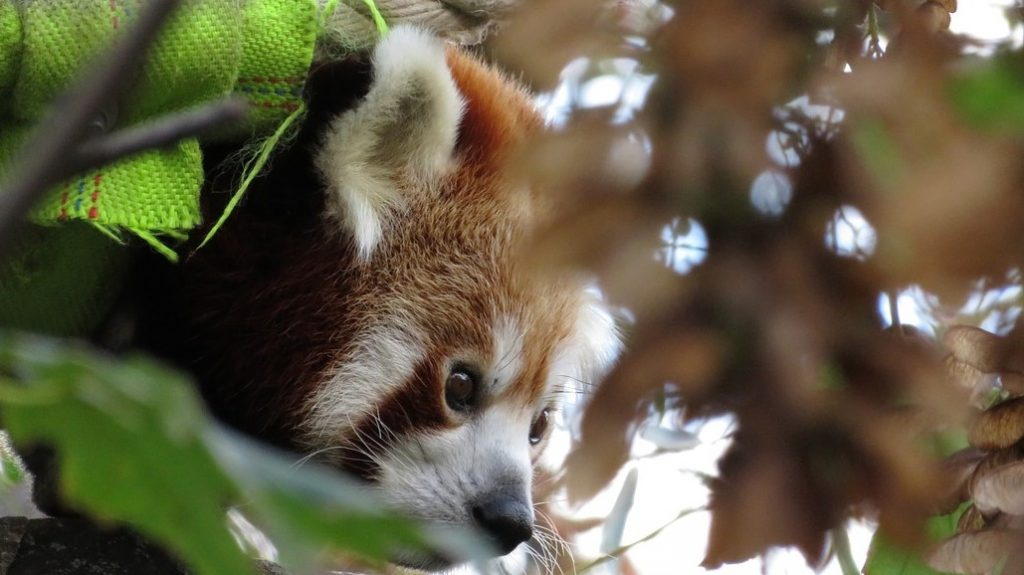red_panda: (171, 41, 600, 575)
